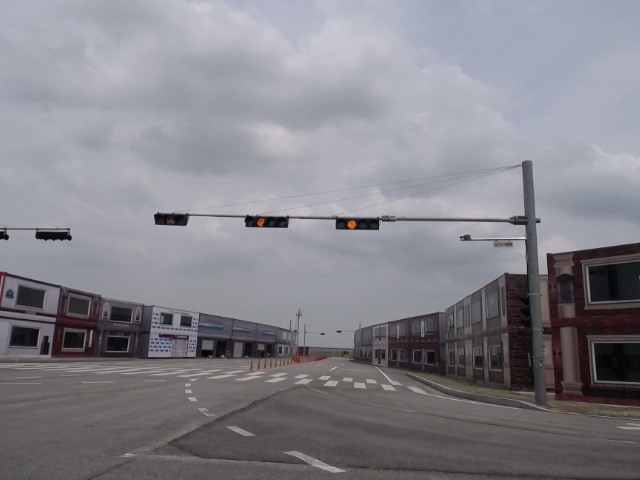orange_4: (335, 215, 381, 232), (244, 215, 289, 227)
